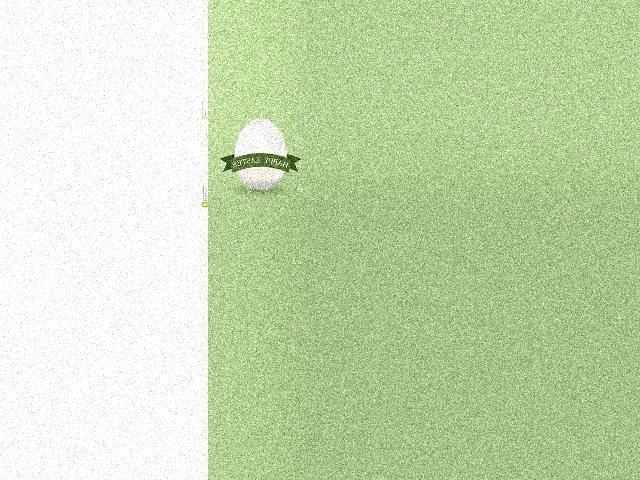egg: (233, 118, 285, 190)
